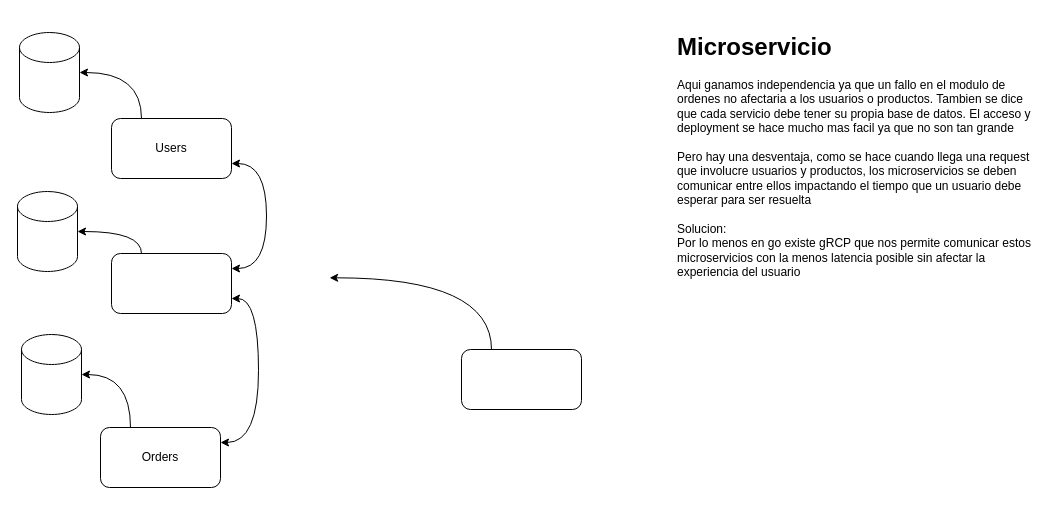
The diagram is 1064 pixels wide and 505 high, and some of its shapes have lost their labels. Each missing label, with the centre of its shape:
Products: pixel 171 283
Request user/products: pixel 521 379
